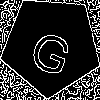G: (26, 21, 79, 78)
